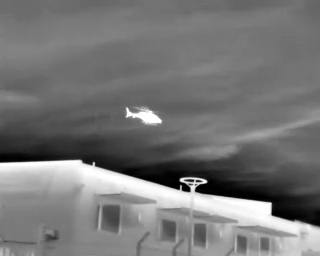HELICOPTER: (122, 99, 170, 133)
